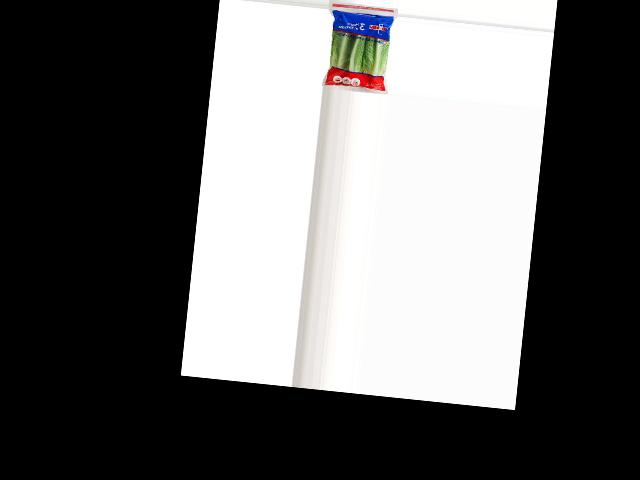lettuce: (323, 8, 394, 94)
